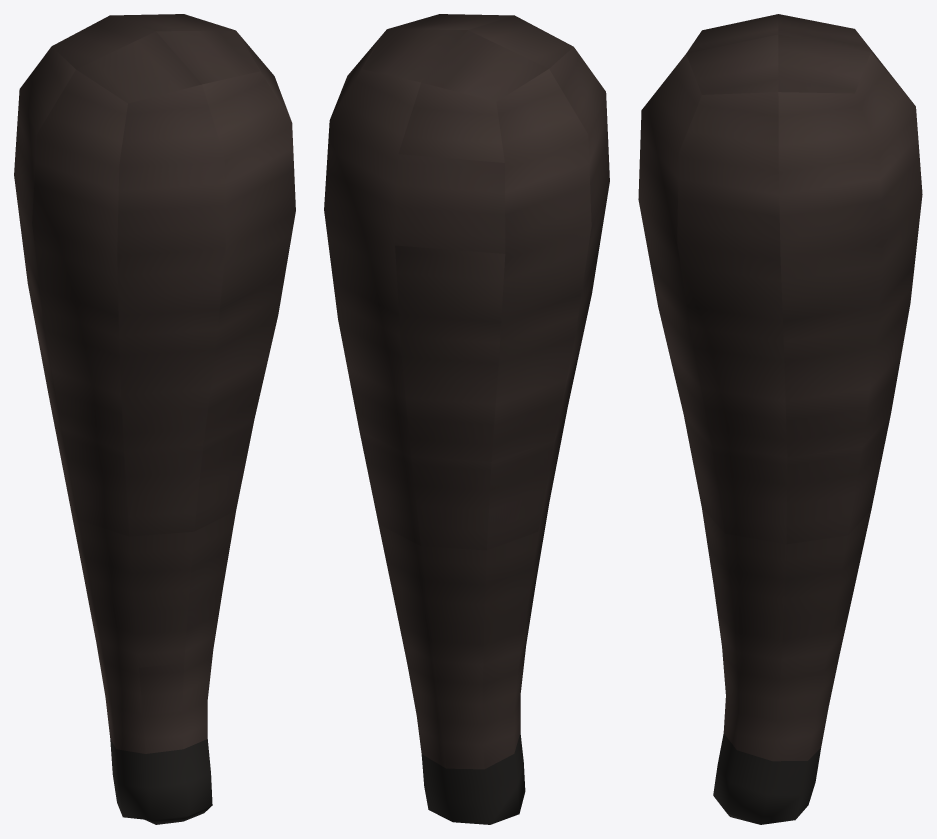
The model's file is SM_Boar_LegF.fbx.
The picture shows the model from 3 angles, left to right: view 1: azimuth 30°, elevation 25°; view 2: azimuth 150°, elevation 25°; view 3: azimuth 270°, elevation 25°; orthographic projection.
Visible parts, largest first — view 1: SM_Boar_LegF; view 2: SM_Boar_LegF; view 3: SM_Boar_LegF.
Boxes of the visible parts, box(x1,y1,x2,y2) form: SM_Boar_LegF: box(14, 14, 295, 824); SM_Boar_LegF: box(324, 14, 609, 824); SM_Boar_LegF: box(638, 14, 922, 824).
Size of the model in its own units: 0.7058 by 2.11 by 0.7057.
1 material, 1 textured.
